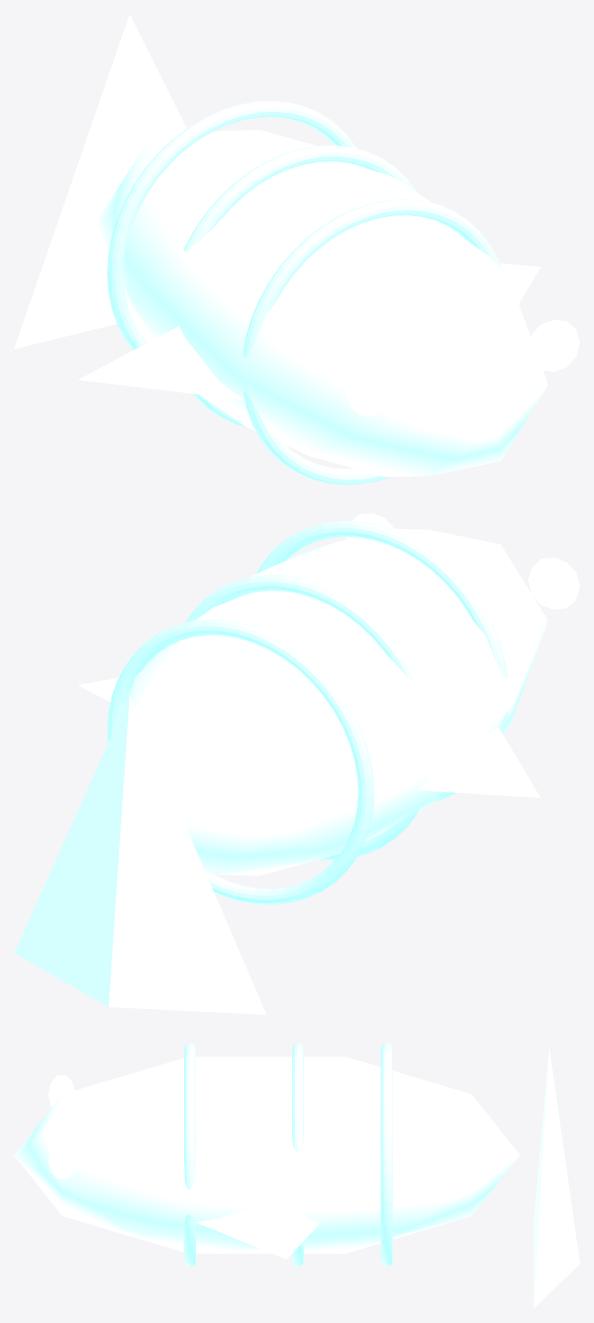
File: lantern-sprat.glb
3 renders of one model, top to bottom at view 1: azimuth 30°, elevation 25°; view 2: azimuth 150°, elevation 25°; view 3: azimuth 270°, elevation 25°, orthographic. The views are drawn at different scales.
Visible parts, largest first — view 1: body, swim-tail, biolight-ring, biolight-ring.002, swim-fin--1, biolight-ring.001, eye-1, eye--1, swim-fin-1; view 2: body, swim-tail, biolight-ring.002, biolight-ring, swim-fin--1, biolight-ring.001, eye--1; view 3: body, swim-tail, swim-fin-1, biolight-ring.002, biolight-ring, biolight-ring.001, eye-1, eye--1.
Part boxes in pixels (<box>): body: <box>97,130,547,477</box>; swim-tail: <box>14,14,186,348</box>; biolight-ring: <box>243,199,501,484</box>; biolight-ring.002: <box>107,100,356,350</box>; swim-fin--1: <box>78,326,243,399</box>; biolight-ring.001: <box>184,145,416,427</box>; eye-1: <box>528,320,579,371</box>; eye--1: <box>346,364,397,416</box>; swim-fin-1: <box>500,263,540,303</box>; body: <box>127,528,547,875</box>; swim-tail: <box>14,695,266,1014</box>; biolight-ring.002: <box>107,619,374,904</box>; biolight-ring: <box>256,520,507,801</box>; swim-fin--1: <box>417,727,540,797</box>; biolight-ring.001: <box>185,574,419,860</box>; eye--1: <box>528,557,579,609</box>; body: <box>14,1056,519,1253</box>; swim-tail: <box>533,1047,579,1308</box>; swim-fin-1: <box>196,1200,319,1259</box>; biolight-ring.002: <box>380,1043,392,1266</box>; biolight-ring: <box>184,1043,195,1266</box>; biolight-ring.001: <box>292,1043,303,1266</box>; eye-1: <box>48,1140,75,1179</box>; eye--1: <box>48,1075,74,1107</box>.
Size of the model in its own units: 2.29 by 1.4 by 3.31.
